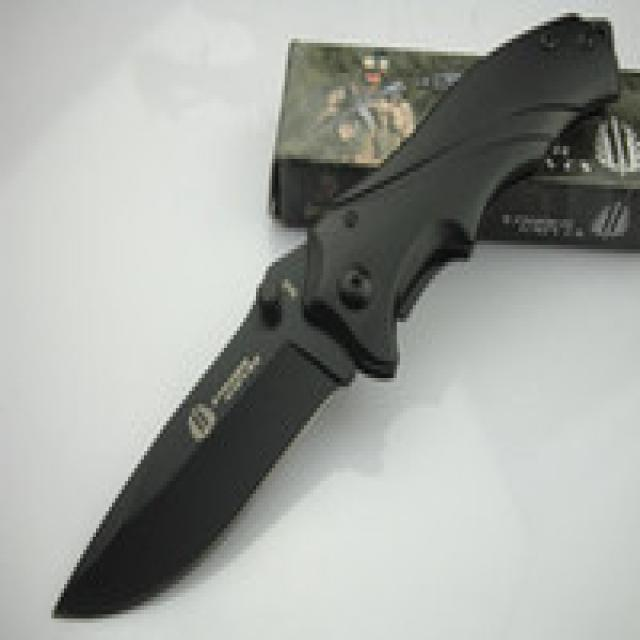knife: (48, 7, 626, 633)
